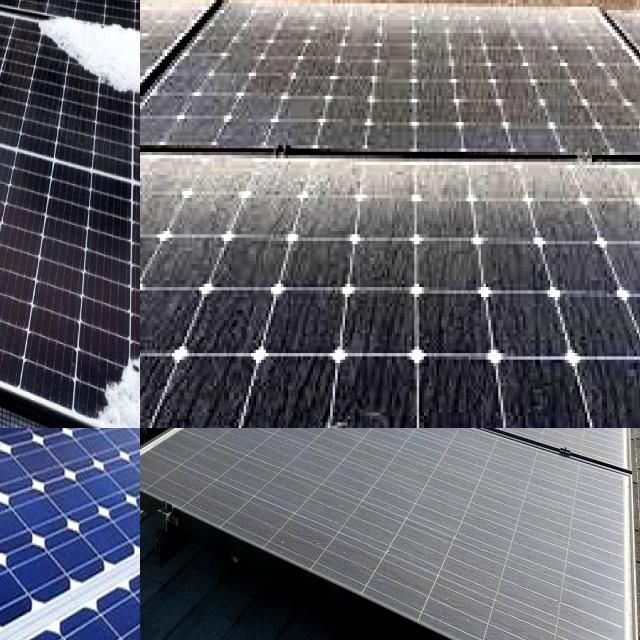crack: (0, 428, 140, 640), (0, 501, 140, 640)
dust: (447, 444, 595, 636), (269, 428, 434, 551), (270, 289, 394, 424), (420, 295, 550, 423), (140, 285, 242, 421), (396, 36, 530, 136), (263, 219, 424, 283), (191, 11, 263, 142), (289, 20, 362, 140), (466, 219, 588, 281), (588, 293, 640, 428), (250, 158, 432, 196), (461, 428, 613, 471), (557, 75, 640, 153), (440, 165, 582, 198), (140, 428, 218, 475), (140, 165, 234, 202), (224, 428, 337, 455), (545, 4, 603, 56), (140, 0, 175, 73), (623, 164, 640, 282), (342, 428, 455, 443), (395, 428, 430, 458)
panel: (37, 0, 140, 134), (93, 315, 140, 428), (10, 0, 82, 32), (0, 0, 50, 40), (0, 0, 36, 26), (111, 0, 140, 25)
